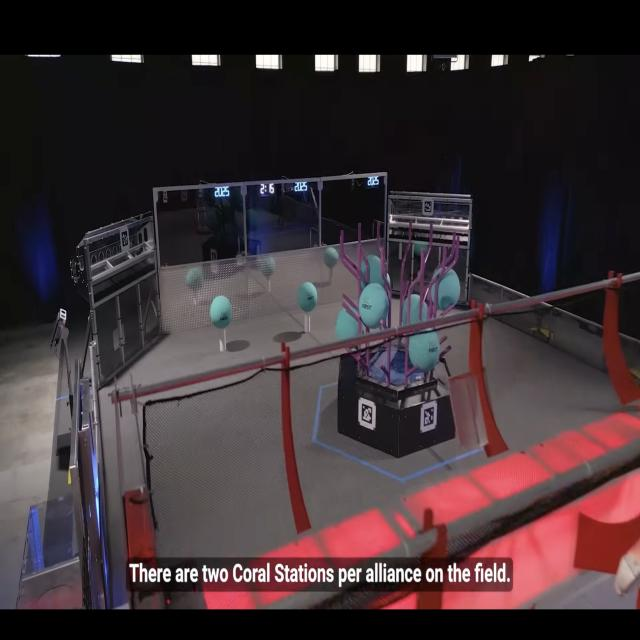algae: (407, 325, 443, 376), (357, 282, 391, 329), (428, 264, 462, 310), (333, 302, 366, 348), (398, 292, 432, 336), (358, 252, 394, 293), (207, 291, 236, 333), (295, 280, 322, 316)
coral: (217, 324, 230, 360), (302, 304, 315, 339)
